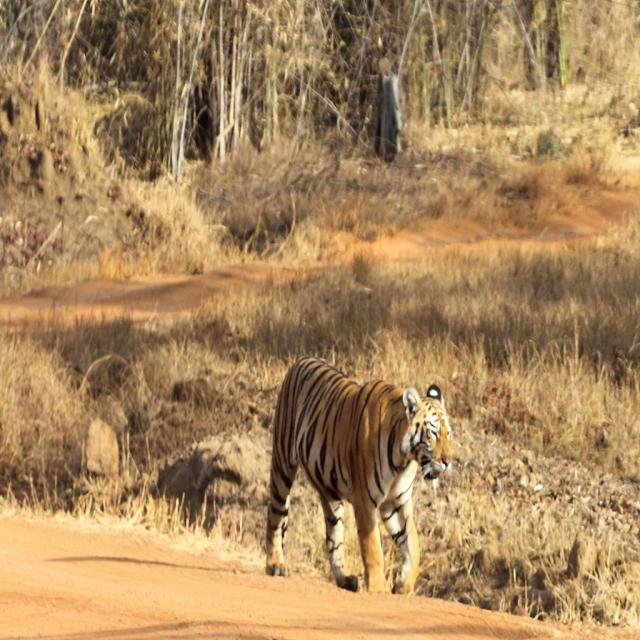Tiger: (266, 356, 452, 596)
